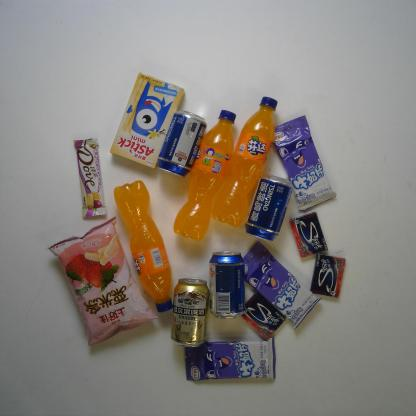Alcohol: (156, 109, 207, 177), (245, 172, 293, 241), (207, 249, 249, 321), (169, 276, 210, 349)
Candy: (236, 238, 322, 330), (268, 114, 337, 212), (182, 335, 277, 386)
Chocolate: (73, 137, 108, 219)
Dessert: (108, 72, 186, 171)
Drink: (210, 91, 277, 227), (175, 108, 236, 243), (113, 179, 174, 313)
Gum: (239, 292, 286, 341), (288, 212, 329, 260), (308, 251, 346, 300)
Puffed Food: (46, 214, 158, 348)
